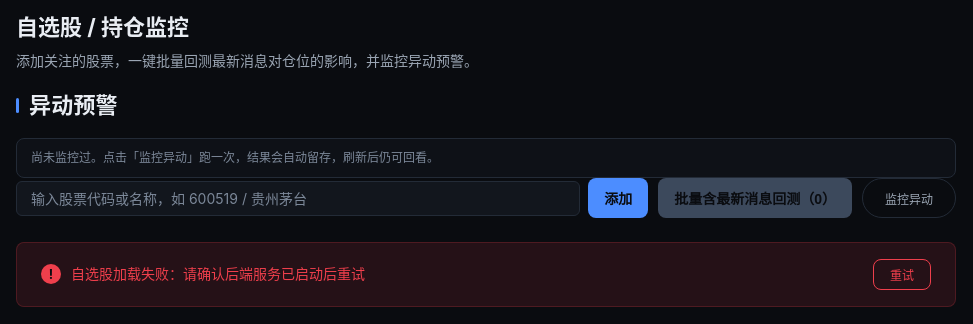
Test: WatchlistPage 加载失败与重试 › 点「重试」重新拉取列表：成功后横幅消失、清单出现
The image size is (973, 324).
Expected: the message "! 自选股加载失败：请确认后端服务已启动后重试 重试" is shown, [16,242,956,307]
Click the button "重试" at (902, 274), box [873,259,931,290]
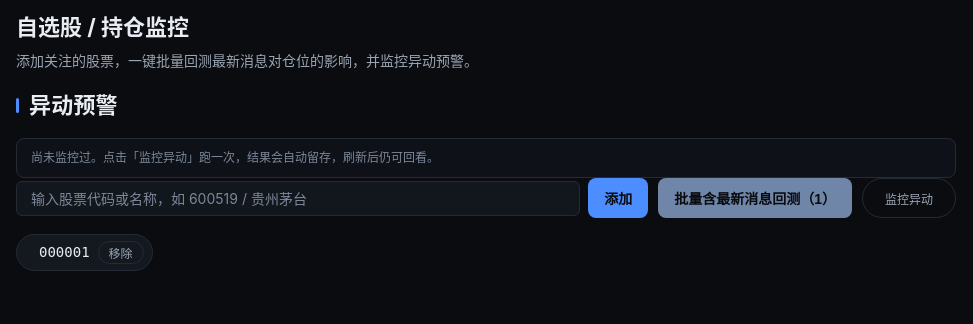
Expected: the text "000001" is shown, [39,242,90,263]
Expected: the message "! 自选股加载失败：请确认后端服务已启动后重试 重试" is gone
